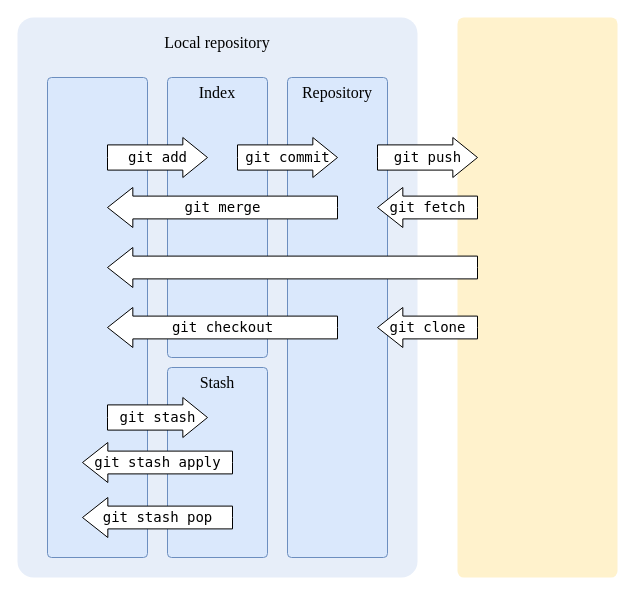
Some shapes in this 634 by 594 pixel diagram are drawn without their labels. The centre of each missing label's shape, as x and y in pixels:
"pull" belongs at (x=292, y=267).
"Remote repository" belongs at (x=537, y=297).
"Working dictionary" belongs at (x=97, y=317).
